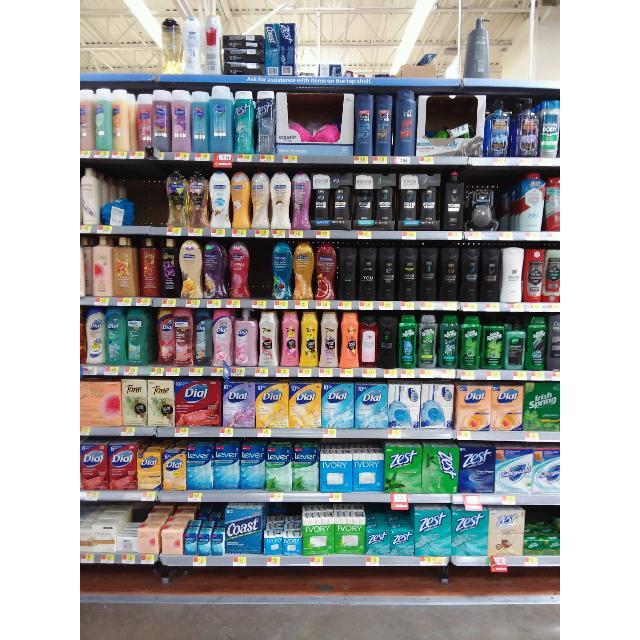empty: (298, 0, 462, 78), (80, 0, 160, 74), (490, 0, 560, 80), (136, 160, 166, 226)
